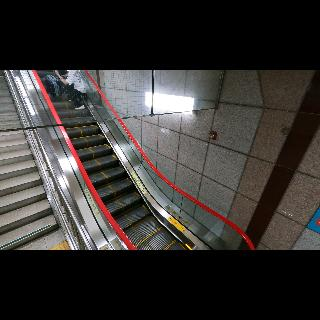anomaly: (56, 70, 90, 114)
